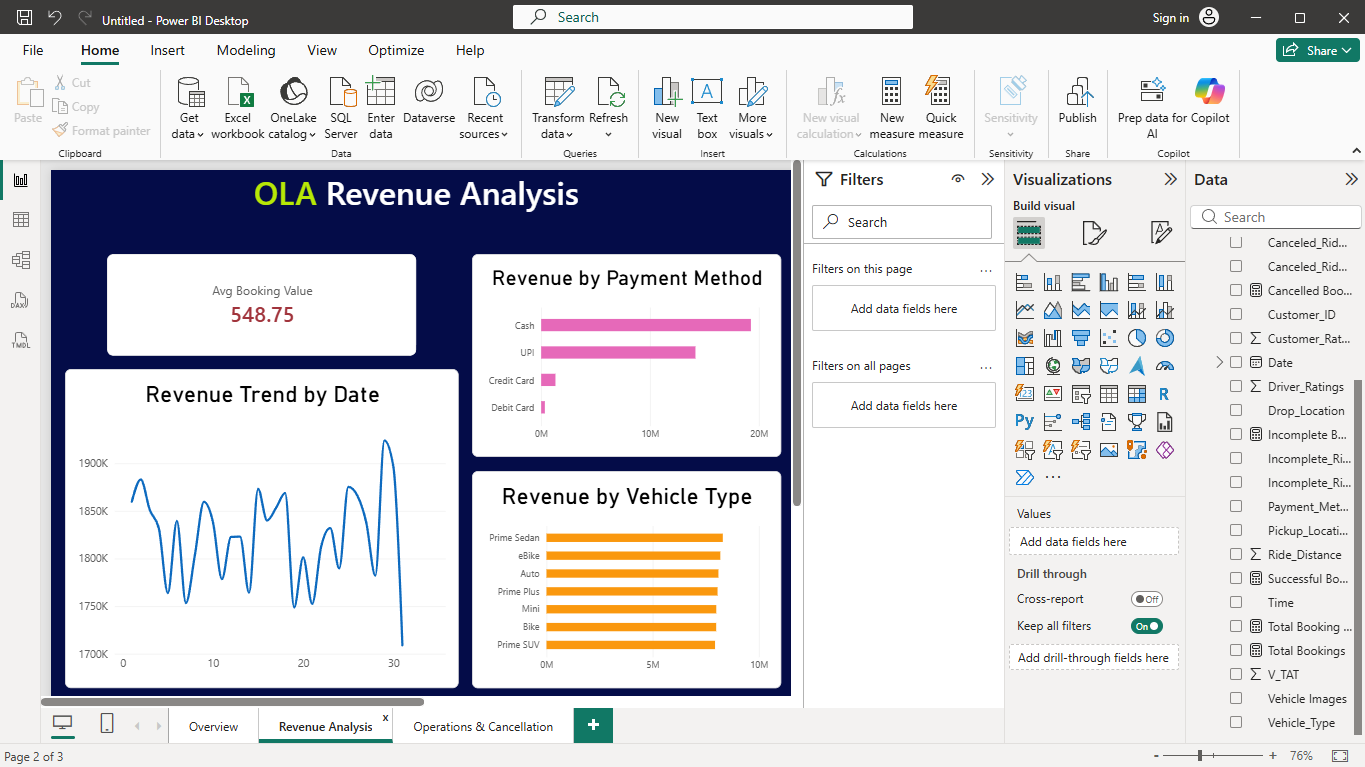

The page's visual inventory and layout, read from the dashboard file:
{"tool":"powerbi","page":{"name":"Revenue Analysis","canvas":[1920,1080],"ordinal":1},"visuals":[{"type":"cardVisual","fields":{"Data":["Bookings_ola.Avg Booking Value"]},"box":[73.7,110.5,407.9,134.2],"z":0},{"type":"textbox","box":[232.9,0,496.1,88.2],"z":1000},{"type":"clusteredBarChart","title":"Revenue by Vehicle Type","fields":{"Category":["Bookings_ola.Vehicle_Type"],"Y":["Sum(Bookings_ola.Booking_Value)"]},"box":[553.9,396.1,406.6,285.5],"z":2000},{"type":"clusteredBarChart","title":"Revenue by Payment Method","fields":{"Y":["Sum(Bookings_ola.Booking_Value)"],"Category":["Bookings_ola.Payment_Method"]},"box":[553.9,110.5,406.6,267.1],"z":3000},{"type":"lineChart","title":"Revenue Trend by Date","fields":{"Category":["Bookings_ola.Date.Variation.Date Hierarchy.Day"],"Y":["Sum(Bookings_ola.Booking_Value)"]},"box":[18.4,261.8,518.4,419.7],"z":4000}]}

Visuals, with their boxes on the page's 1920x1080 design canvas (x1, y1, x2, y2). These are canvas units, not pixel positions in the 1365x767 screenshot, which may show the page scaled, cropped or inside an application window:
cardVisual - Bookings_ola.Avg Booking Value: rect(74, 110, 482, 245)
textbox: rect(233, 0, 729, 88)
"Revenue by Vehicle Type" clusteredBarChart: rect(554, 396, 960, 682)
"Revenue by Payment Method" clusteredBarChart: rect(554, 110, 960, 378)
"Revenue Trend by Date" lineChart: rect(18, 262, 537, 682)
